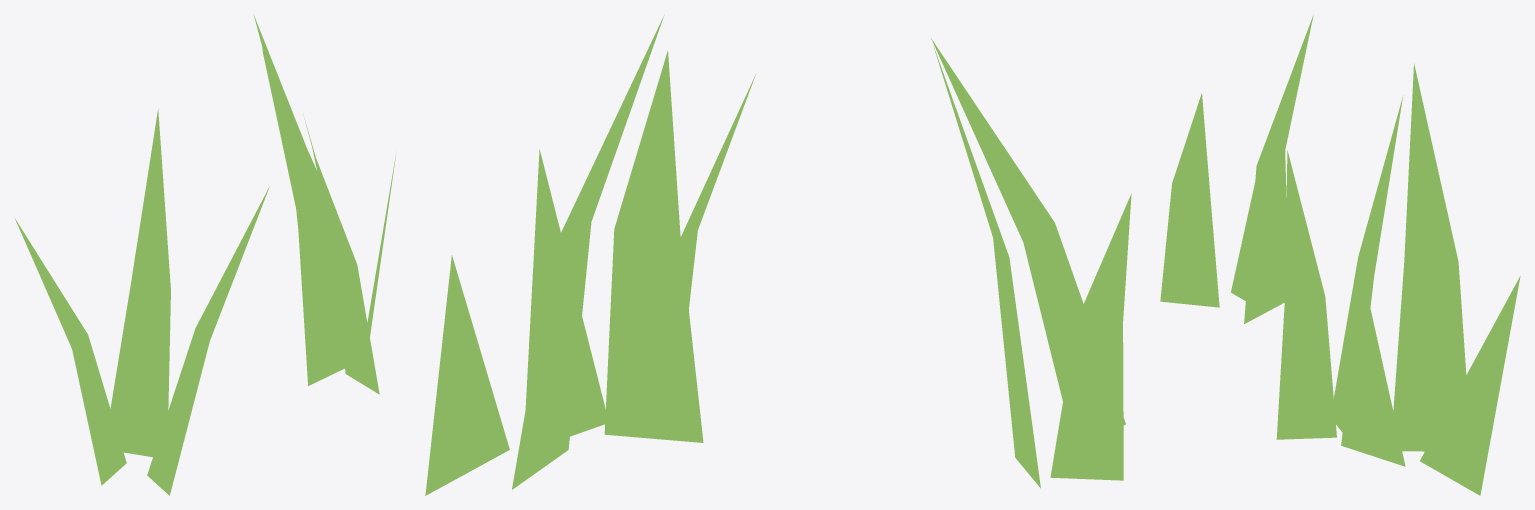
The model's file is Grass_a_TwoS_05.fbx.
The picture shows the model from 3 angles, left to right: view 1: azimuth 30°, elevation 25°; view 2: azimuth 150°, elevation 25°; view 3: azimuth 270°, elevation 25°; orthographic projection. The views are drawn at different scales.
Visible parts, largest first — view 1: Grass_a_TwoS_05; view 2: Grass_a_TwoS_05; view 3: Grass_a_TwoS_05.
Boxes of the visible parts, x1=… form: Grass_a_TwoS_05: x1=15, y1=15, x2=396, y2=495; Grass_a_TwoS_05: x1=425, y1=15, x2=1131, y2=495; Grass_a_TwoS_05: x1=1160, y1=15, x2=1520, y2=495.
Bounding box in the file's own units: 0.8 × 0.6405 × 0.5749.
